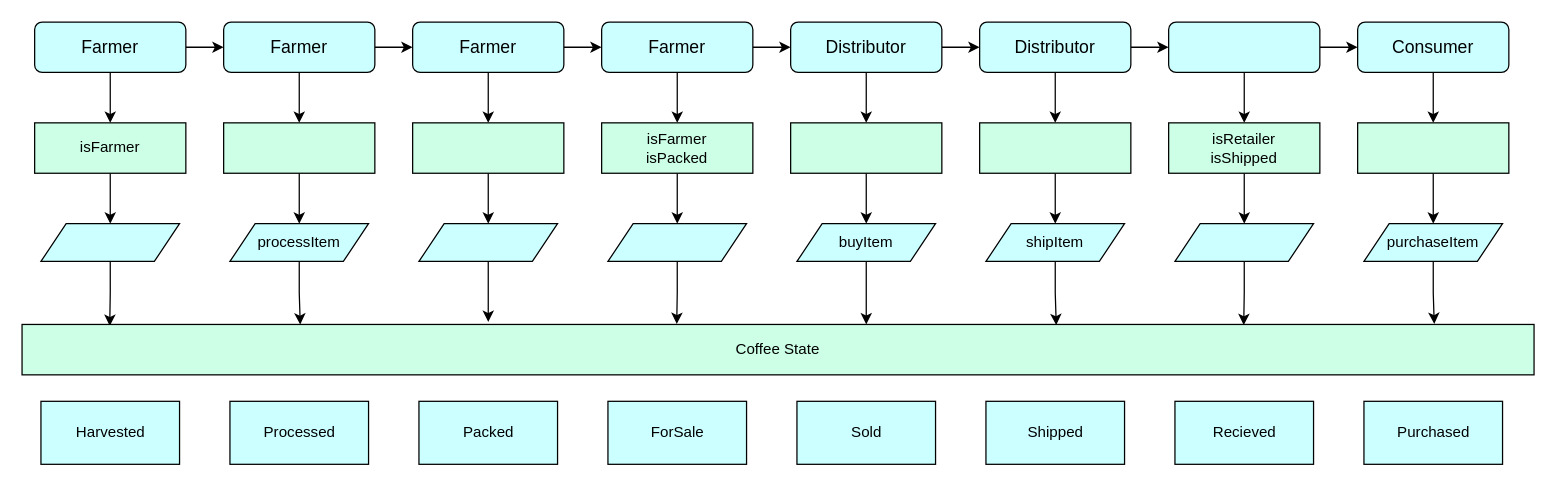
This 1556x486 diagram has some shape labels left out. The shapes that lost their labels are listed below. From the top down, each one's box as (x1, y1, x2, y2) in pixels, then its label:
(1167, 21, 1320, 72): Retialer
(222, 122, 375, 173): isFarmer isHarvested
(411, 122, 564, 173): isFarmer isProcessed
(789, 122, 942, 173): isDistributor isSold
(978, 122, 1131, 173): isDistributor isBought
(1356, 122, 1509, 173): isConsumer
(40, 222, 180, 261): harvestItem
(418, 222, 558, 261): packItem
(607, 222, 747, 261): sellItem
(1174, 222, 1314, 261): receiveItem
